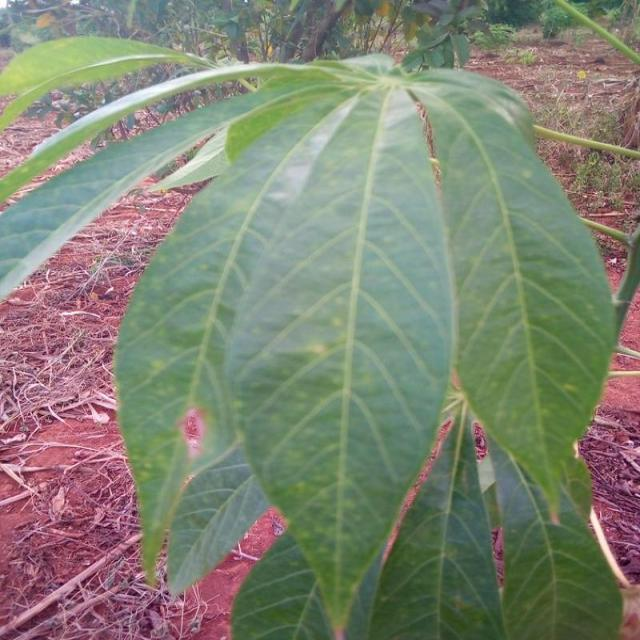cassava leaf: (1, 46, 622, 637)
